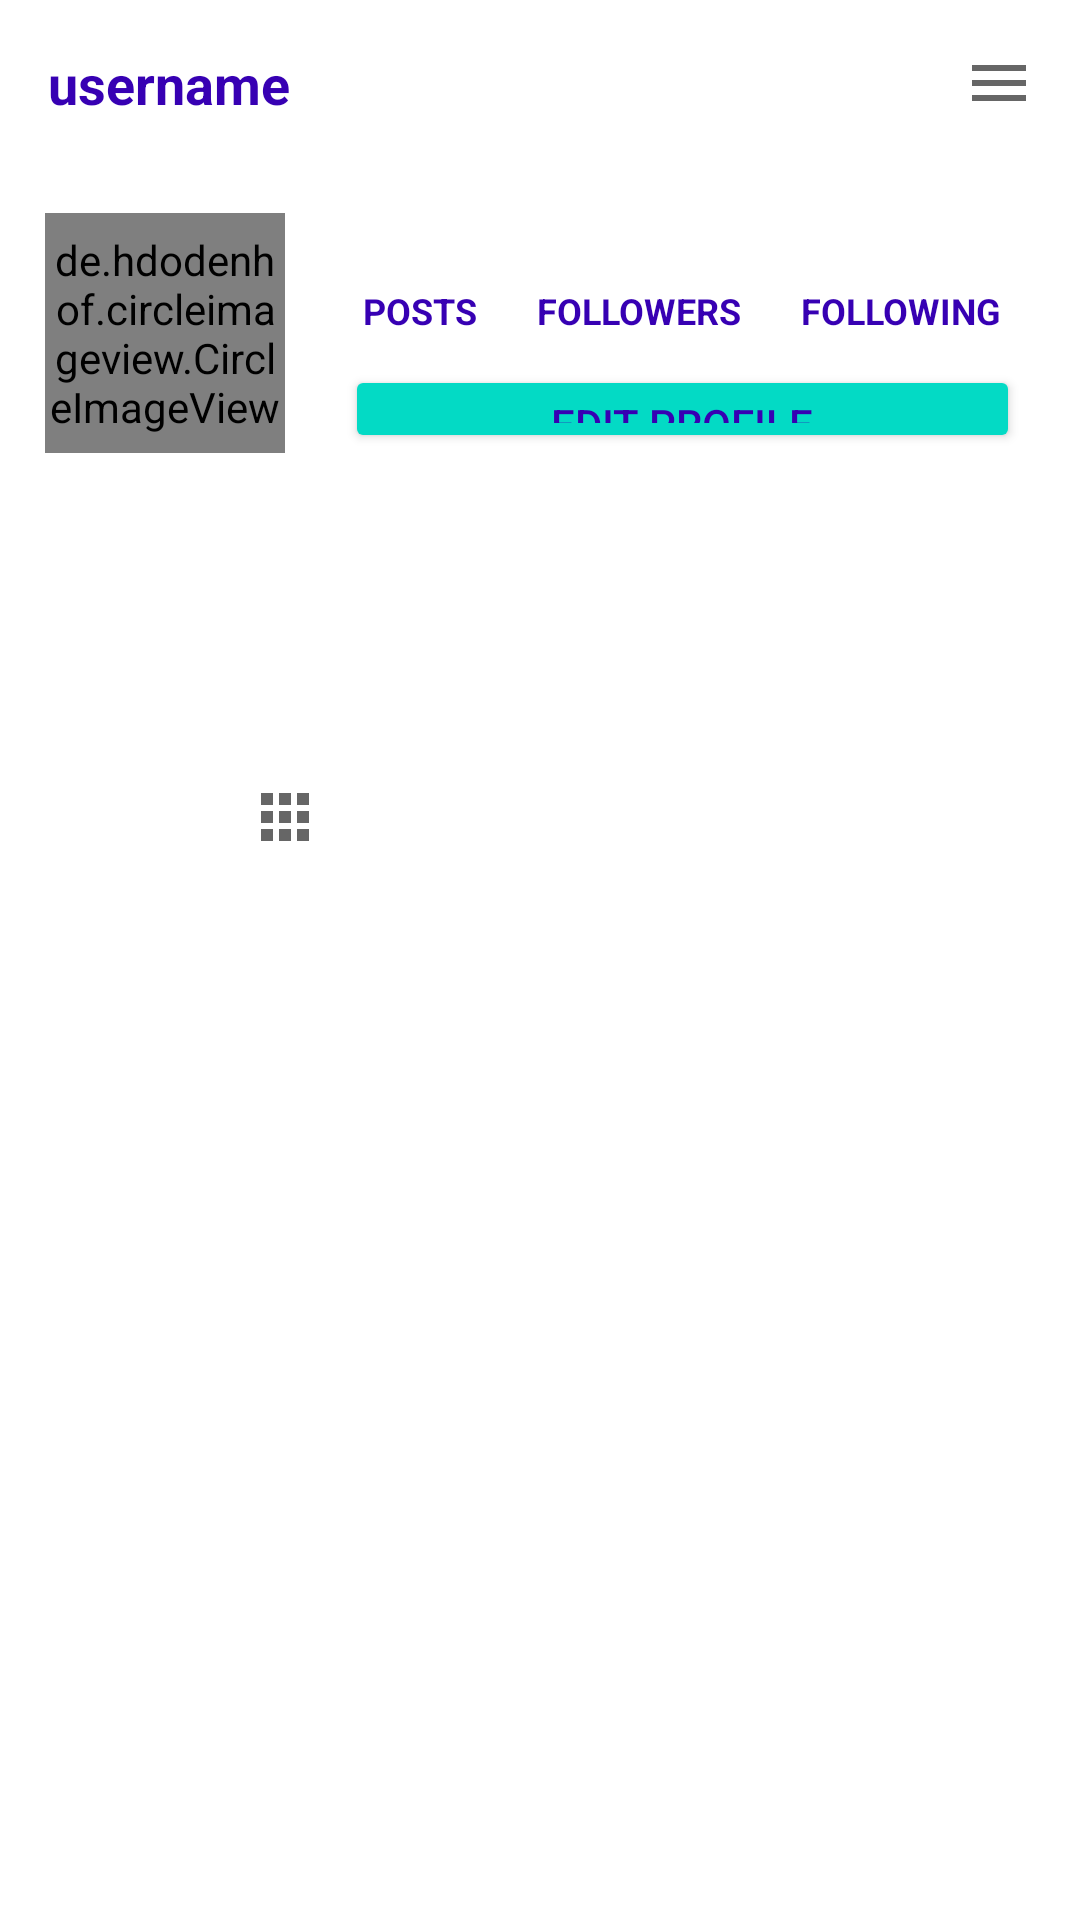

Locate icon controls on the screen. Image size 1080*1920, boxes as (x1, y1, x2, y2).
options: (972, 65, 1026, 101)
